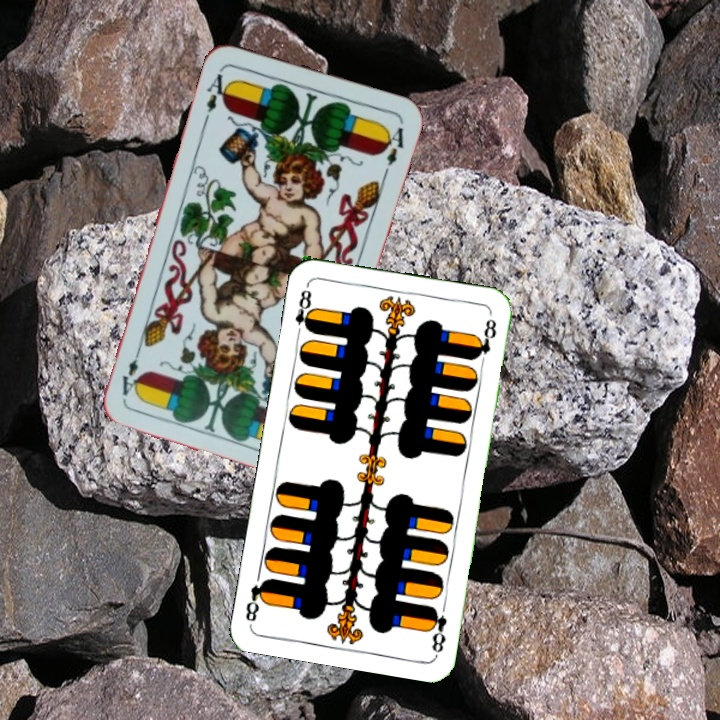E8: (291, 281, 317, 340), (425, 602, 450, 657)
EA: (201, 65, 234, 124)
